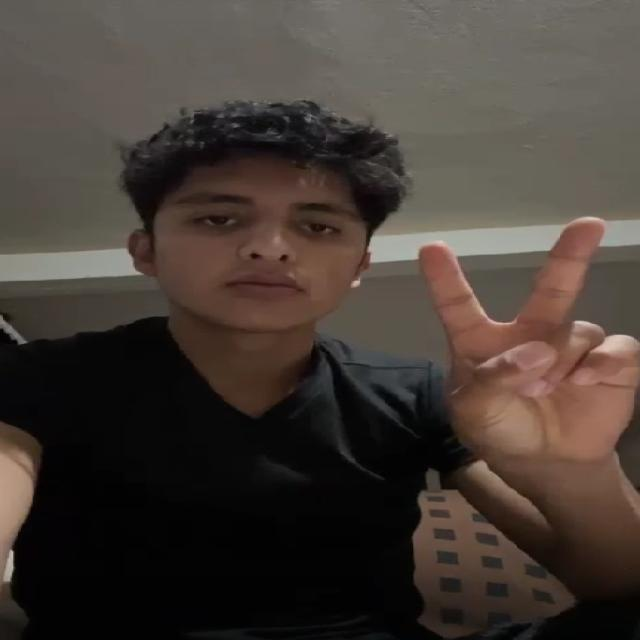V: (400, 202, 640, 477)
